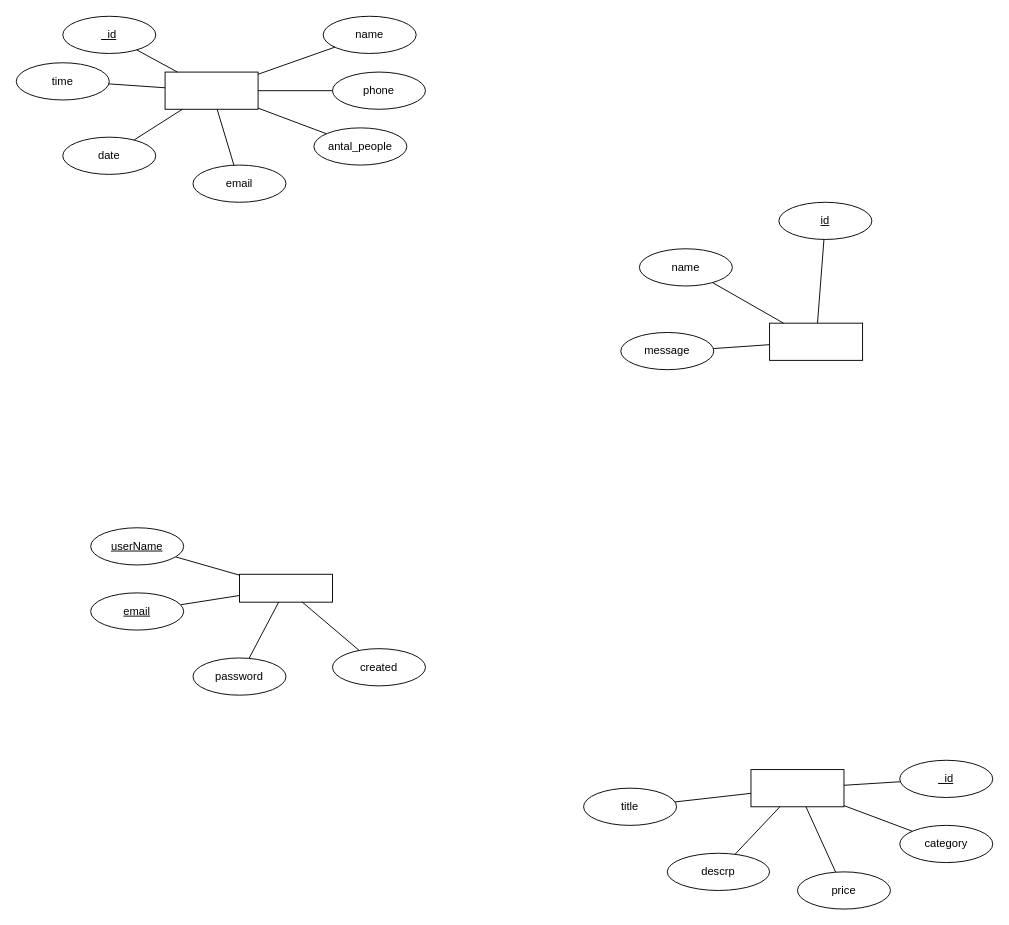
Some shapes in this 1009 by 925 pixel diagram are drawn without their labels. Each missing label, with the centre of its shape:
"booking" belongs at (x=211, y=90).
"feedback" belongs at (x=816, y=341).
"menuSchema" belongs at (x=797, y=788).
"user" belongs at (x=285, y=587).
